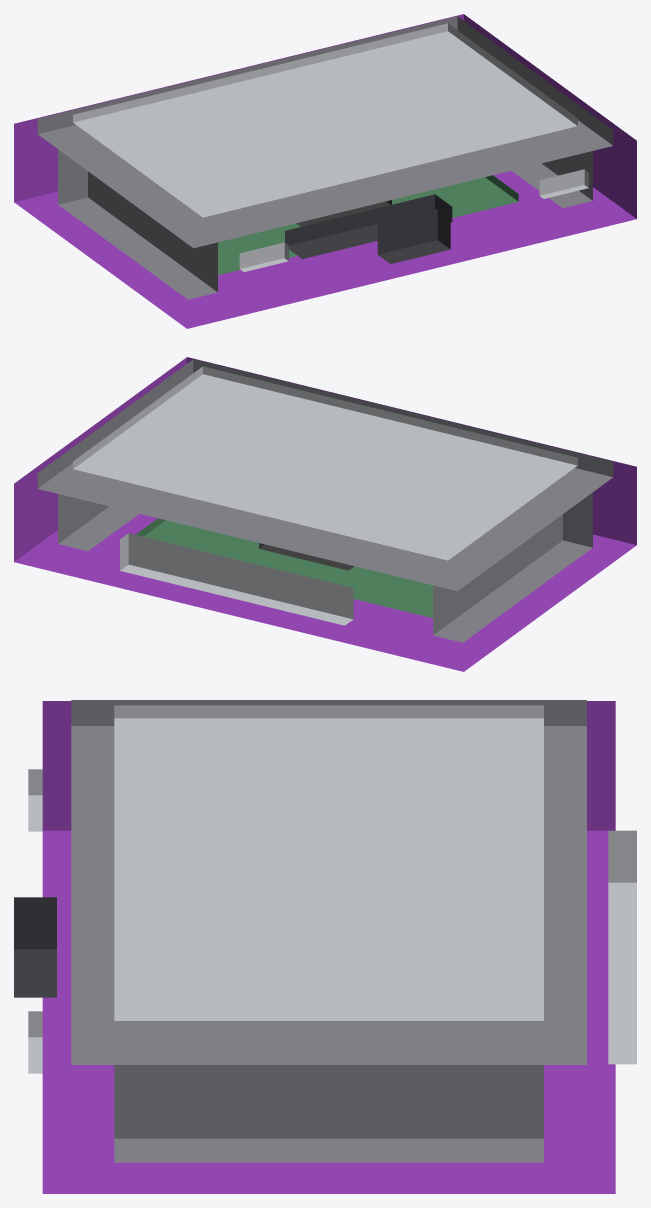
File: battery_compartment.gltf
The picture shows the model from 3 angles, top to bottom: view 1: azimuth 30°, elevation 25°; view 2: azimuth 150°, elevation 25°; view 3: azimuth 270°, elevation 25°; orthographic projection. The views are drawn at different scales.
Parts seen in each view (by area): view 1: battery_compartment; view 2: battery_compartment; view 3: battery_compartment.
Part boxes in pixels (x1,y1,x2,y2): battery_compartment: (14, 14, 636, 328); battery_compartment: (14, 357, 636, 671); battery_compartment: (14, 700, 636, 1193).
Bounding box in the file's own units: 0.06 × 0.012 × 0.0435.
